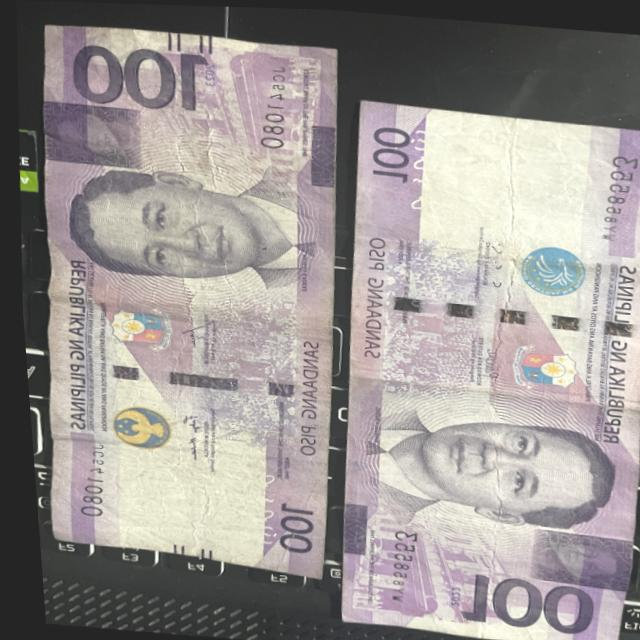concealed_value: (39, 102, 150, 170), (517, 527, 629, 592)
security_thread: (356, 293, 640, 336), (44, 359, 328, 402)
serial_number: (247, 52, 306, 157), (587, 143, 640, 249), (59, 436, 109, 528), (373, 522, 416, 607)
value: (65, 37, 213, 117), (446, 565, 596, 634)
watermark: (428, 119, 598, 242), (107, 450, 251, 546)
